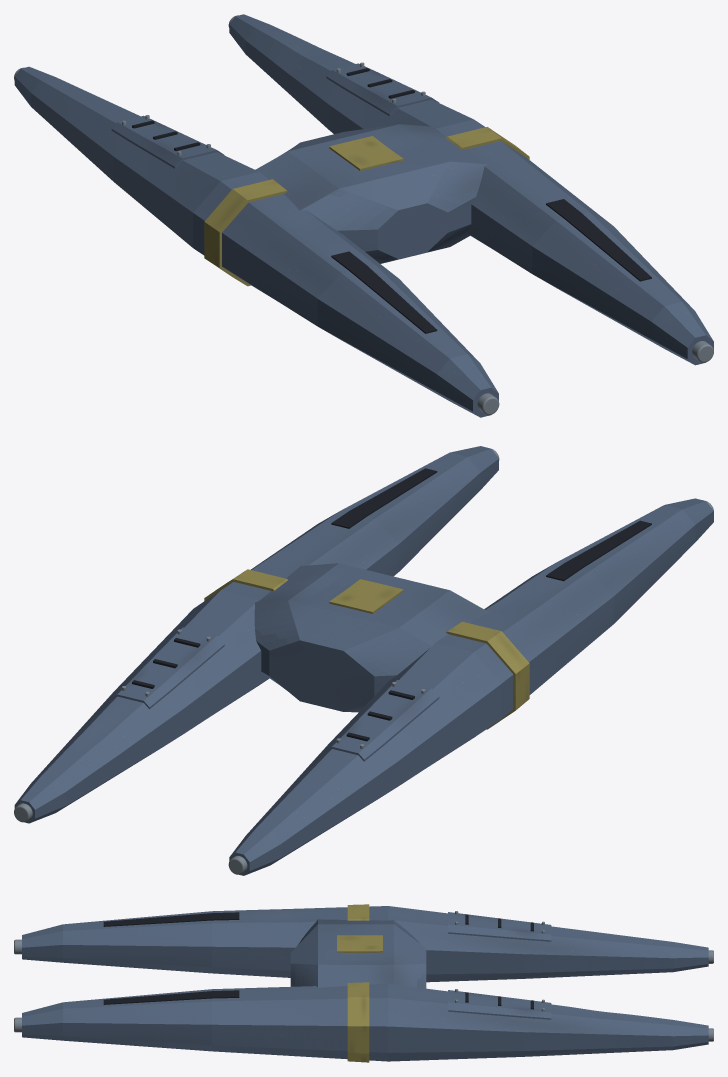
The picture shows the model from 3 angles, top to bottom: view 1: azimuth 30°, elevation 25°; view 2: azimuth 150°, elevation 25°; view 3: azimuth 270°, elevation 25°; orthographic projection. The views are drawn at different scales.
Parts seen in each view (by area): view 1: Ylikt-shan port rail, Ylikt-shan starboard rail, Ylikt-shan transverse hull, Ylikt-shan rail gold band 0, Ylikt-shan rail service cover 0, Ylikt-shan rail service cover 1, Ylikt-shan fore rail inset 0, Ylikt-shan fore rail inset 1, Ylikt-shan bridge gold plate, Ylikt-shan rail gold band 1; view 2: Ylikt-shan port rail, Ylikt-shan starboard rail, Ylikt-shan transverse hull, Ylikt-shan rail service cover 1, Ylikt-shan rail service cover 0, Ylikt-shan rail gold band 0, Ylikt-shan bridge gold plate, Ylikt-shan fore rail inset 0, Ylikt-shan fore rail inset 1, Ylikt-shan rail gold band 1; view 3: Ylikt-shan starboard rail, Ylikt-shan port rail, Ylikt-shan transverse hull, Ylikt-shan rail service cover 0, Ylikt-shan rail service cover 1, Ylikt-shan rail gold band 1, Ylikt-shan fore rail inset 0, Ylikt-shan fore rail inset 1, Ylikt-shan bridge gold plate, Ylikt-shan rail gold band 0.
Part boxes in pixels (x1=…): Ylikt-shan port rail: x1=14, y1=66, x2=498, y2=417; Ylikt-shan starboard rail: x1=229, y1=14, x2=713, y2=365; Ylikt-shan transverse hull: x1=255, y1=124, x2=488, y2=263; Ylikt-shan rail gold band 0: x1=204, y1=179, x2=287, y2=286; Ylikt-shan rail service cover 0: x1=111, y1=115, x2=224, y2=168; Ylikt-shan rail service cover 1: x1=326, y1=63, x2=439, y2=116; Ylikt-shan fore rail inset 0: x1=331, y1=251, x2=437, y2=333; Ylikt-shan fore rail inset 1: x1=546, y1=199, x2=651, y2=281; Ylikt-shan bridge gold plate: x1=329, y1=136, x2=403, y2=170; Ylikt-shan rail gold band 1: x1=446, y1=127, x2=529, y2=159; Ylikt-shan port rail: x1=229, y1=498, x2=713, y2=875; Ylikt-shan starboard rail: x1=14, y1=446, x2=498, y2=823; Ylikt-shan transverse hull: x1=254, y1=563, x2=489, y2=712; Ylikt-shan rail service cover 1: x1=111, y1=627, x2=224, y2=708; Ylikt-shan rail service cover 0: x1=326, y1=680, x2=439, y2=761; Ylikt-shan rail gold band 0: x1=446, y1=621, x2=529, y2=729; Ylikt-shan bridge gold plate: x1=329, y1=579, x2=403, y2=613; Ylikt-shan fore rail inset 0: x1=546, y1=520, x2=651, y2=581; Ylikt-shan fore rail inset 1: x1=331, y1=468, x2=437, y2=528; Ylikt-shan rail gold band 1: x1=204, y1=569, x2=287, y2=600; Ylikt-shan starboard rail: x1=22, y1=984, x2=708, y2=1061; Ylikt-shan port rail: x1=22, y1=906, x2=708, y2=982; Ylikt-shan transverse hull: x1=290, y1=919, x2=426, y2=988; Ylikt-shan rail service cover 0: x1=448, y1=912, x2=551, y2=941; Ylikt-shan rail service cover 1: x1=448, y1=990, x2=551, y2=1019; Ylikt-shan rail gold band 1: x1=347, y1=982, x2=369, y2=1062; Ylikt-shan fore rail inset 0: x1=103, y1=912, x2=239, y2=926; Ylikt-shan fore rail inset 1: x1=103, y1=990, x2=239, y2=1004; Ylikt-shan bridge gold plate: x1=337, y1=935, x2=382, y2=952; Ylikt-shan rail gold band 0: x1=347, y1=904, x2=369, y2=920.
Bounding box in the file's own units: 0.9864 × 0.298 × 2.58.
4 materials, 2 textured.
